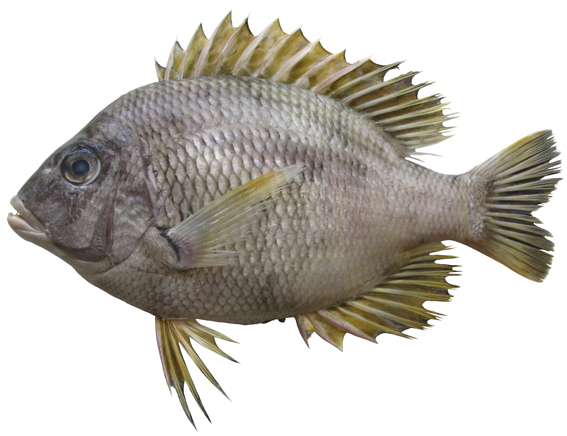fish: (8, 11, 563, 432)
